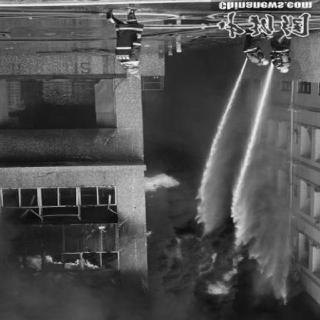Fire: (9, 253, 115, 290), (143, 174, 179, 196)
Smoke: (0, 272, 187, 320), (237, 268, 313, 316)
